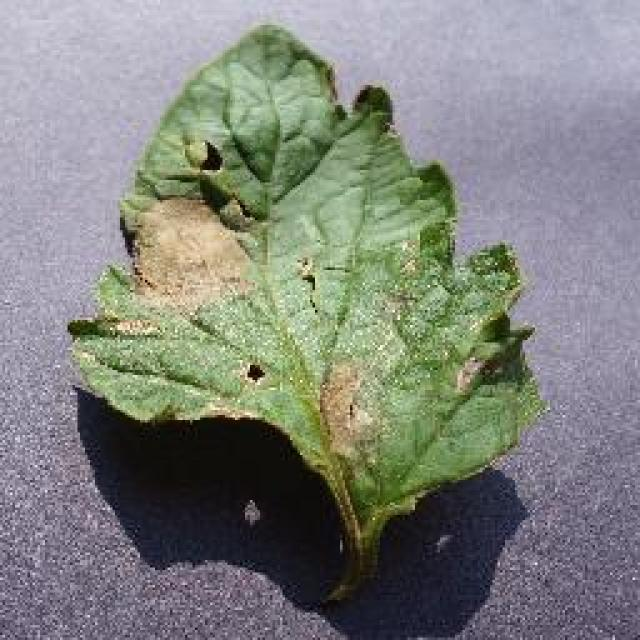Tomato Late Blight: (85, 158, 557, 500)
